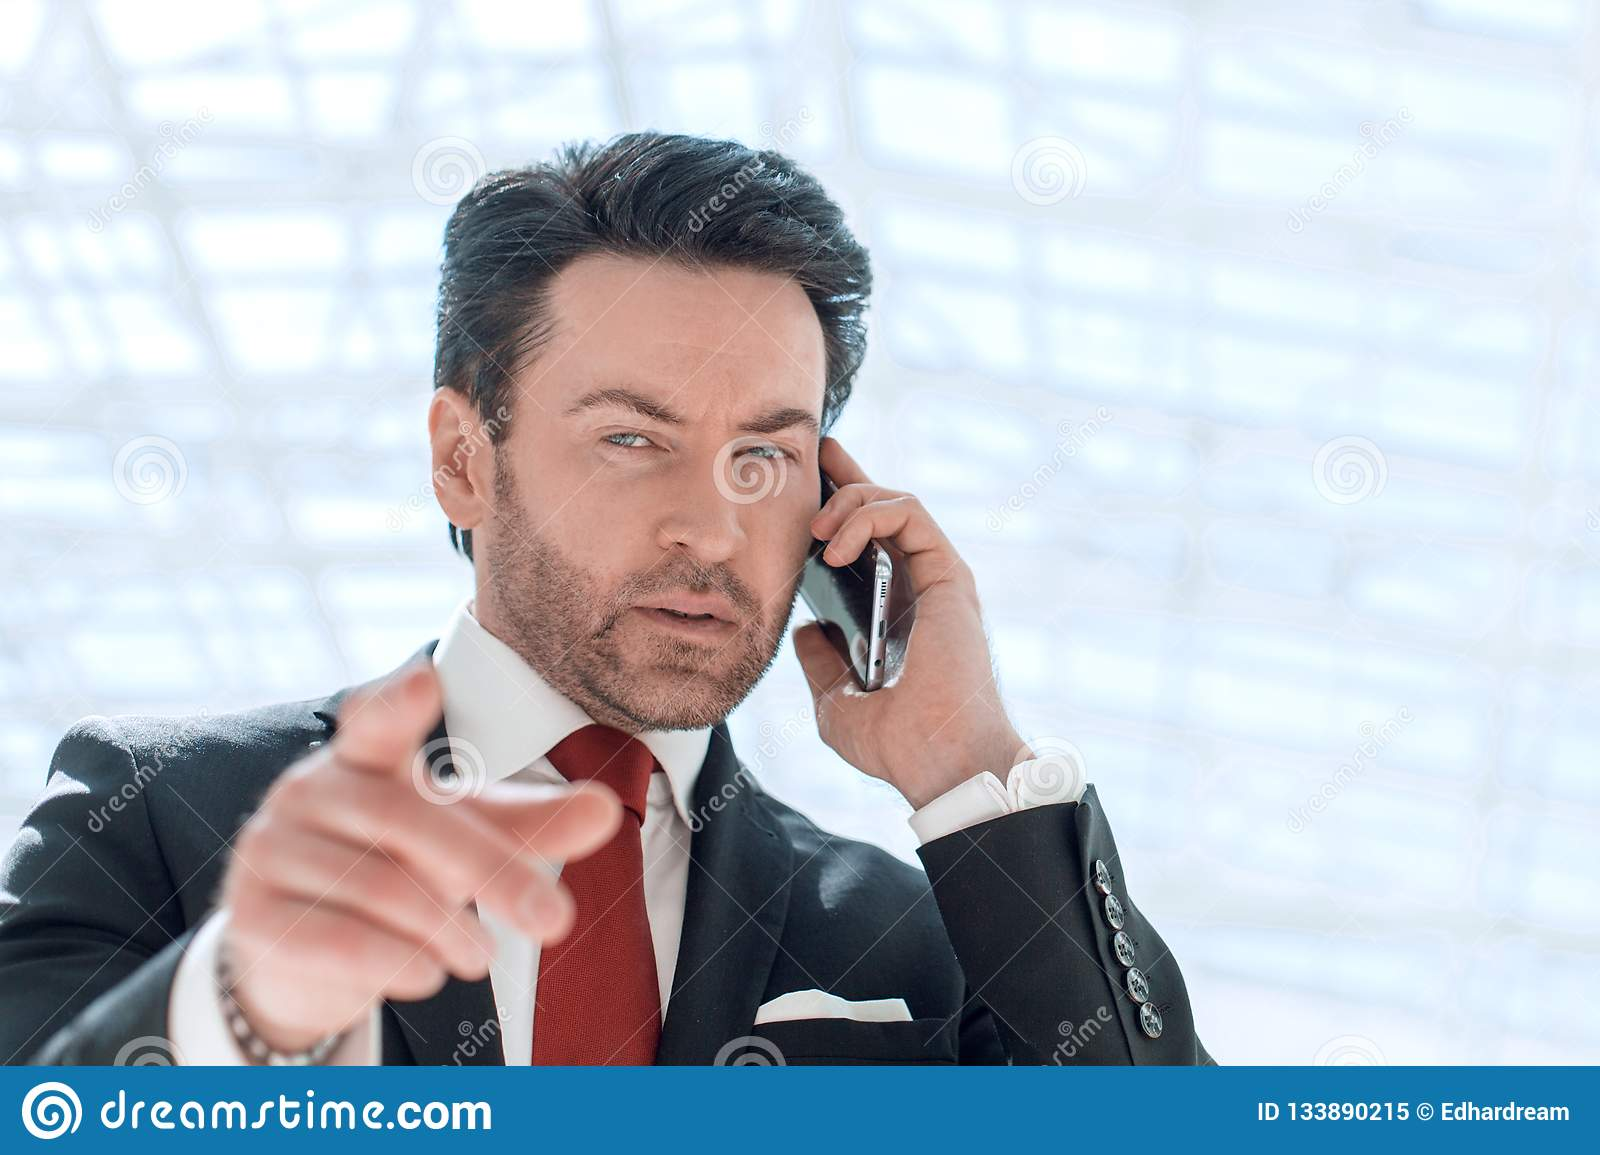phone: (796, 478, 898, 693)
talk: (547, 349, 995, 776)
